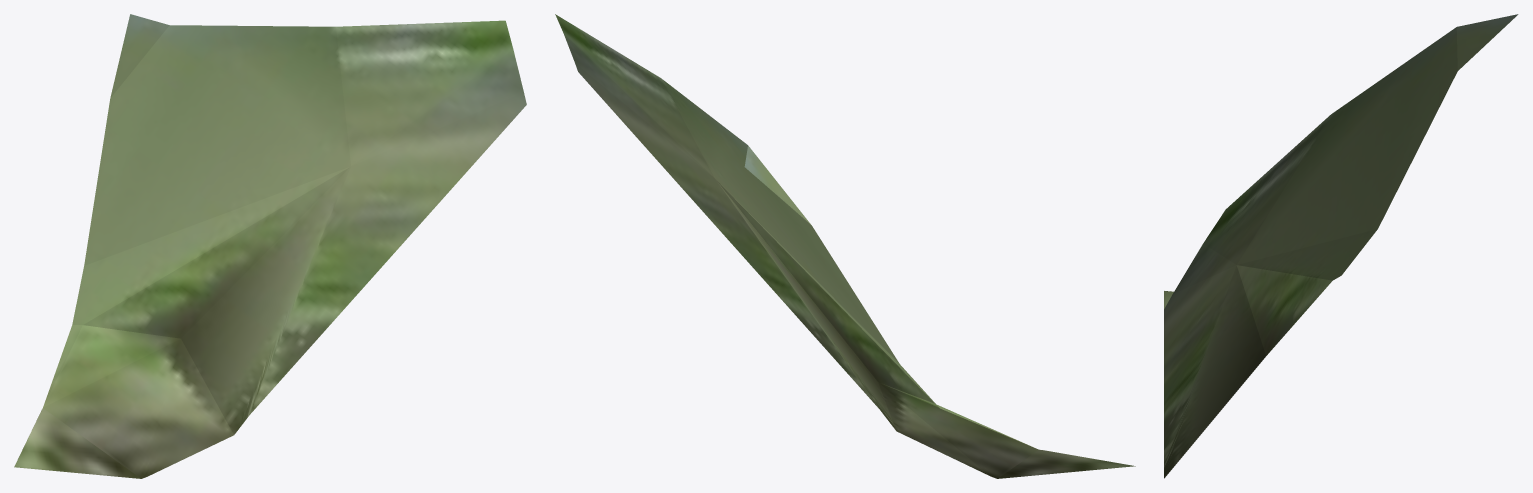
The picture shows the model from 3 angles, left to right: view 1: azimuth 30°, elevation 25°; view 2: azimuth 150°, elevation 25°; view 3: azimuth 270°, elevation 25°; orthographic projection. The views are drawn at different scales.
Size of the model in its own units: 1.67 by 1.09 by 0.6871.
1 material, 1 textured.
